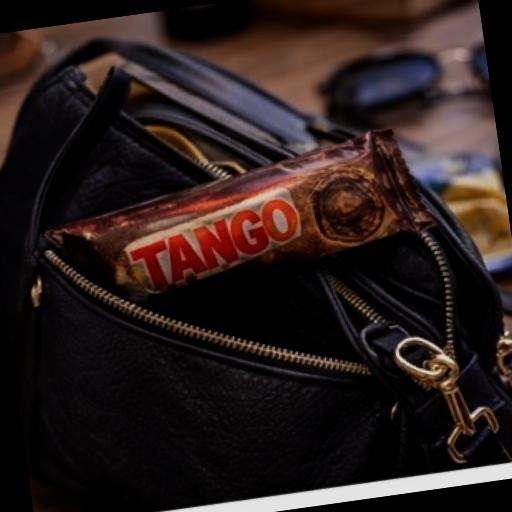tango: (27, 104, 480, 357)
